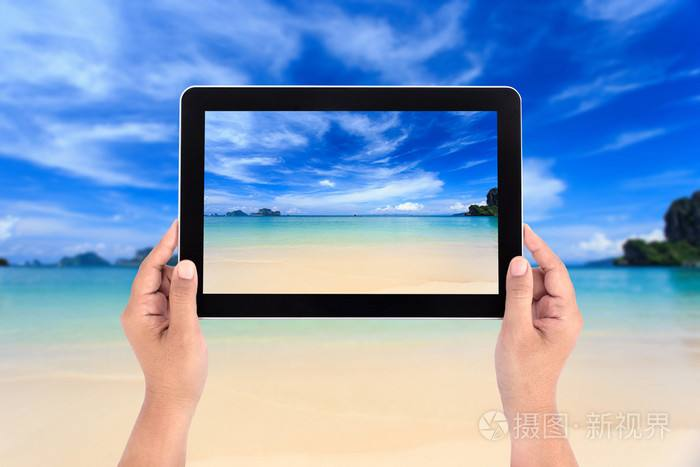pad: (114, 75, 584, 397)
